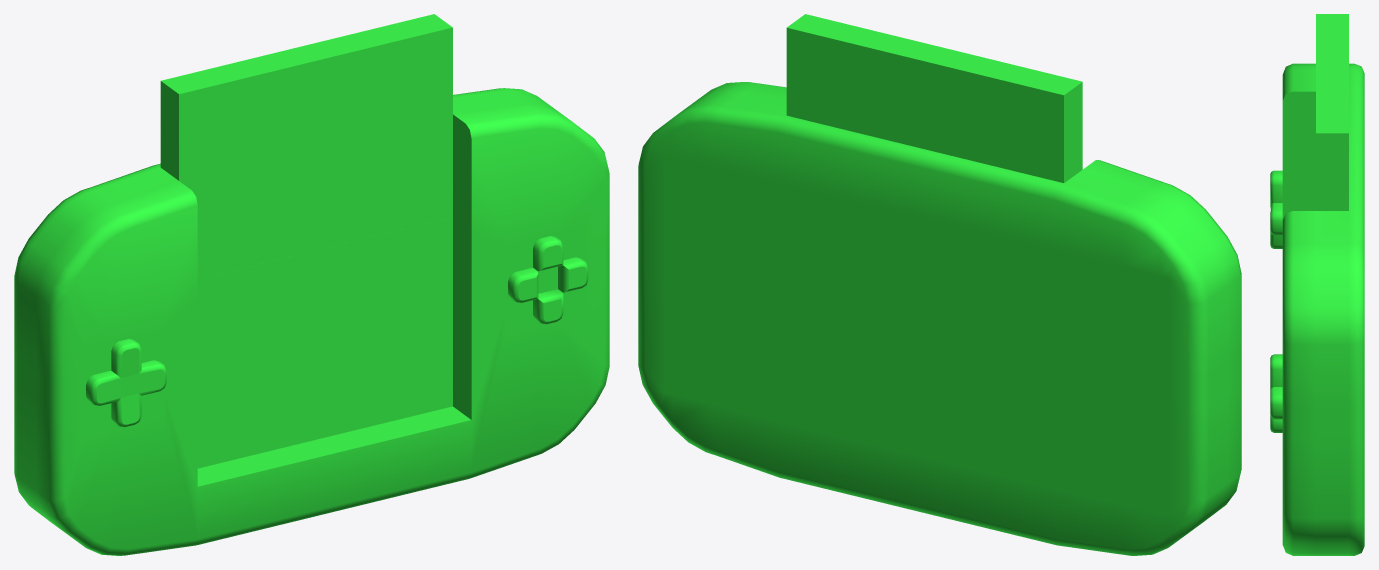
File: StandBy_HandHeld_Jun21_untextured.fbx
The picture shows the model from 3 angles, left to right: view 1: azimuth 30°, elevation 25°; view 2: azimuth 150°, elevation 25°; view 3: azimuth 270°, elevation 25°; orthographic projection. The views are drawn at different scales.
Parts seen in each view (by area): view 1: ConsoleBase, ConsoleScreenFront.001, ConsoleScreenBack, ButtonCross, ButtonCrossLeft, ButtonUp, ButtonCrossDown, ButtonCrossRight; view 2: ConsoleBase, ConsoleScreenFront.001; view 3: ConsoleBase, ConsoleScreenFront.001, ButtonCross, ButtonCrossRight, ButtonUp, ButtonCrossDown.
Boxes of the visible parts, left/top/right/bottom form: ConsoleBase: left=14, top=88, right=609, bottom=555; ConsoleScreenFront.001: left=160, top=14, right=452, bottom=278; ConsoleScreenBack: left=197, top=217, right=452, bottom=468; ButtonCross: left=86, top=339, right=166, bottom=427; ButtonCrossLeft: left=508, top=268, right=538, bottom=302; ButtonUp: left=533, top=236, right=563, bottom=271; ButtonCrossDown: left=533, top=289, right=563, bottom=324; ButtonCrossRight: left=558, top=257, right=588, bottom=292; ConsoleBase: left=638, top=82, right=1241, bottom=555; ConsoleScreenFront.001: left=786, top=14, right=1082, bottom=182; ConsoleBase: left=1282, top=63, right=1364, bottom=555; ConsoleScreenFront.001: left=1316, top=14, right=1348, bottom=210; ButtonCross: left=1270, top=170, right=1282, bottom=248; ButtonCrossRight: left=1270, top=387, right=1282, bottom=419; ButtonUp: left=1270, top=354, right=1282, bottom=386; ButtonCrossDown: left=1270, top=416, right=1282, bottom=432.
Bounding box in the file's own units: 17.97 × 13.56 × 2.94.
